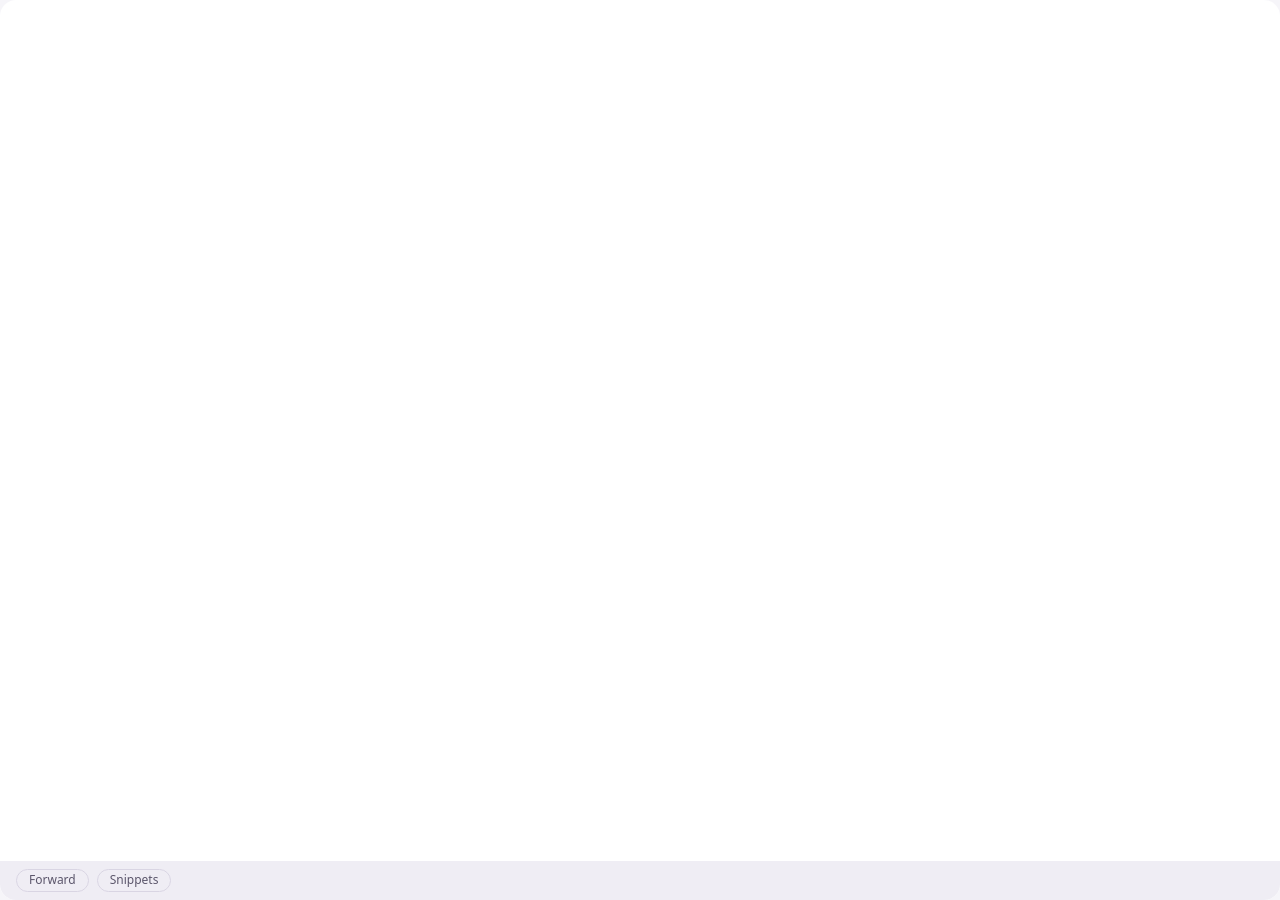
Scenario: a pending multi-line confirm goes away when the session drops
The image size is (1280, 900).
Press P
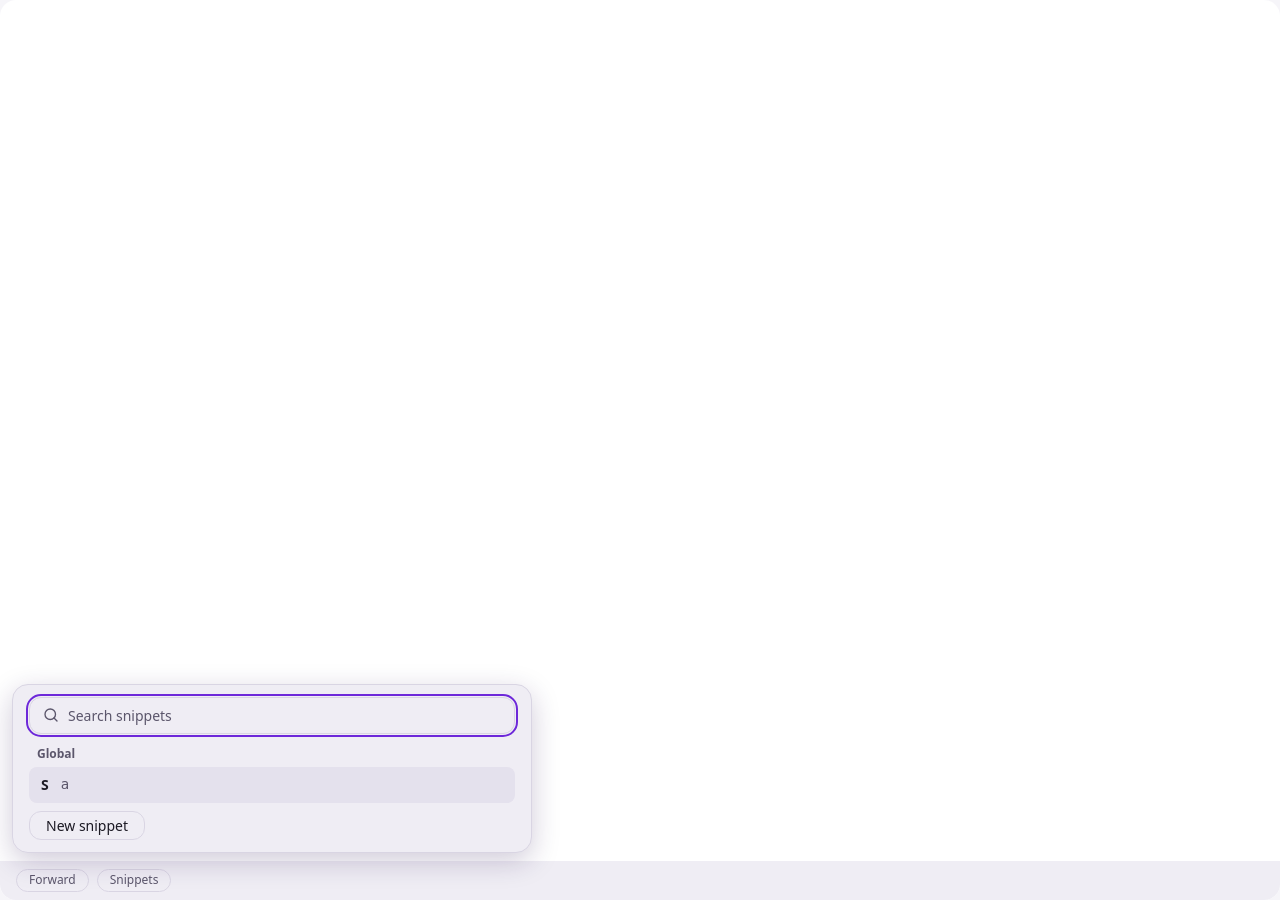
Click the option "S a": [45, 785] box [29, 767, 515, 803]
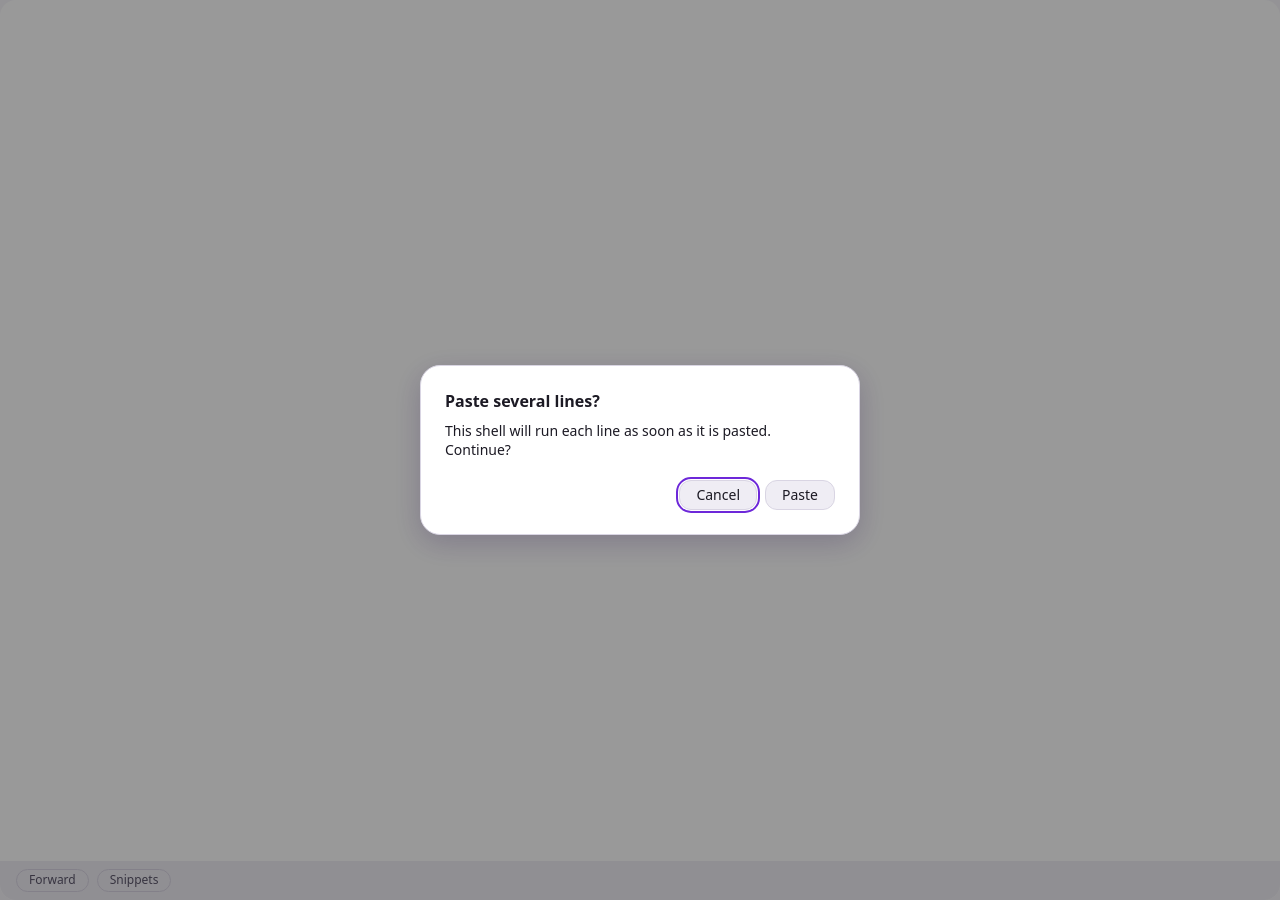
Check: the dialog is shown, box [420, 365, 860, 535]
